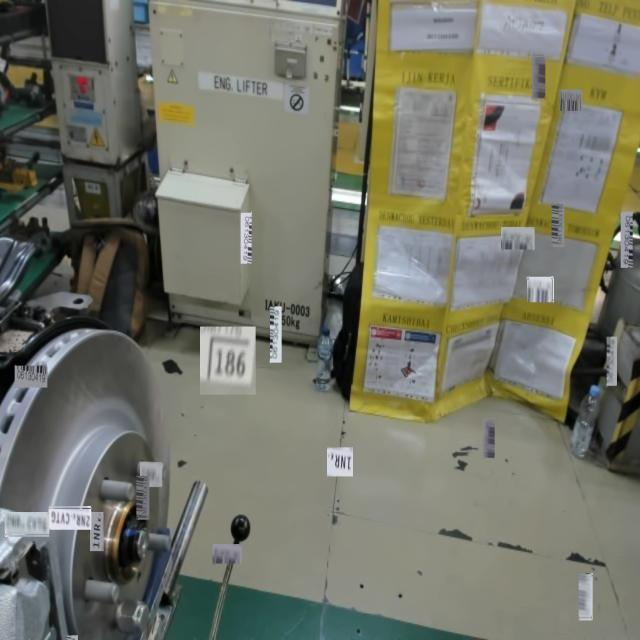Disc-SV: (43, 399, 169, 640)
Engine Assy-186: (205, 335, 252, 386)
